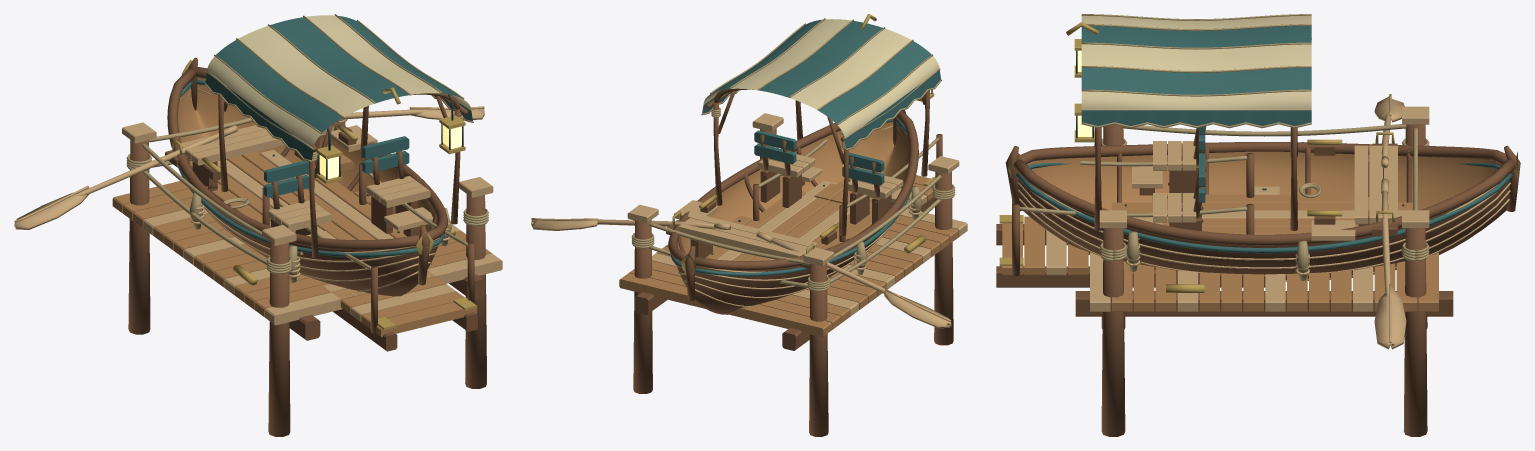
Rendered from reed-ferry.glb.
3 renders of one model, left to right at view 1: azimuth 30°, elevation 25°; view 2: azimuth 150°, elevation 25°; view 3: azimuth 270°, elevation 25°, orthographic. The views are drawn at different scales.
Visible parts, largest first — view 1: FERRY_Reed_mahogany, FERRY_Reed_teal, LANDING_Reed_mahogany, FERRY_Reed_pale, FERRY_Reed_cream, FERRY_Reed_cedar, LANDING_Reed_cedar, LANDING_Reed_pale, FERRY_Reed_rope, GANGWAY_Reed_cedar, LANDING_Reed_rope, GANGWAY_Reed_mahogany (+6 smaller); view 2: FERRY_Reed_mahogany, FERRY_Reed_teal, LANDING_Reed_mahogany, FERRY_Reed_cedar, LANDING_Reed_cedar, FERRY_Reed_pale, FERRY_Reed_cream, LANDING_Reed_pale, LANDING_Reed_rope, FERRY_Reed_rope, oar_left_pale, oar_right_pale (+3 smaller); view 3: FERRY_Reed_mahogany, FERRY_Reed_cedar, FERRY_Reed_teal, FERRY_Reed_pale, LANDING_Reed_mahogany, FERRY_Reed_cream, LANDING_Reed_cedar, LANDING_Reed_pale, FERRY_Reed_rope, GANGWAY_Reed_mahogany, LANDING_Reed_rope, GANGWAY_Reed_cedar (+5 smaller).
Boxes of the visible parts, left/top/right/bottom form: FERRY_Reed_mahogany: left=165, top=57, right=468, bottom=296; FERRY_Reed_teal: left=178, top=16, right=472, bottom=257; LANDING_Reed_mahogany: left=128, top=122, right=486, bottom=436; FERRY_Reed_pale: left=179, top=77, right=450, bottom=291; FERRY_Reed_cream: left=207, top=15, right=471, bottom=147; FERRY_Reed_cedar: left=178, top=77, right=437, bottom=253; LANDING_Reed_cedar: left=112, top=181, right=491, bottom=317; LANDING_Reed_pale: left=122, top=122, right=502, bottom=325; FERRY_Reed_rope: left=189, top=14, right=473, bottom=282; GANGWAY_Reed_cedar: left=314, top=270, right=477, bottom=337; LANDING_Reed_rope: left=126, top=118, right=488, bottom=274; GANGWAY_Reed_mahogany: left=262, top=163, right=477, bottom=351; FERRY_Reed_mahogany: left=666, top=88, right=929, bottom=314; FERRY_Reed_teal: left=670, top=19, right=940, bottom=276; LANDING_Reed_mahogany: left=633, top=128, right=953, bottom=436; FERRY_Reed_cedar: left=677, top=121, right=909, bottom=260; LANDING_Reed_cedar: left=619, top=215, right=958, bottom=337; FERRY_Reed_pale: left=674, top=125, right=921, bottom=307; FERRY_Reed_cream: left=703, top=19, right=939, bottom=137; LANDING_Reed_pale: left=627, top=113, right=967, bottom=316; LANDING_Reed_rope: left=631, top=143, right=955, bottom=291; FERRY_Reed_rope: left=696, top=18, right=941, bottom=274; oar_left_pale: left=756, top=231, right=951, bottom=328; oar_right_pale: left=531, top=218, right=730, bottom=230; FERRY_Reed_mahogany: left=1005, top=126, right=1520, bottom=281; FERRY_Reed_cedar: left=1027, top=151, right=1501, bottom=234; FERRY_Reed_teal: left=1016, top=25, right=1512, bottom=253; FERRY_Reed_pale: left=1017, top=141, right=1510, bottom=281; LANDING_Reed_mahogany: left=1075, top=124, right=1453, bottom=436; FERRY_Reed_cream: left=1081, top=15, right=1311, bottom=110; LANDING_Reed_cedar: left=1112, top=252, right=1438, bottom=311; LANDING_Reed_pale: left=1090, top=106, right=1429, bottom=311; FERRY_Reed_rope: left=1081, top=14, right=1321, bottom=280; GANGWAY_Reed_mahogany: left=996, top=153, right=1265, bottom=287; LANDING_Reed_rope: left=1099, top=124, right=1429, bottom=261; GANGWAY_Reed_cedar: left=1002, top=216, right=1088, bottom=275.
Size of the model in its own units: 5.34 by 3.61 by 4.79.
